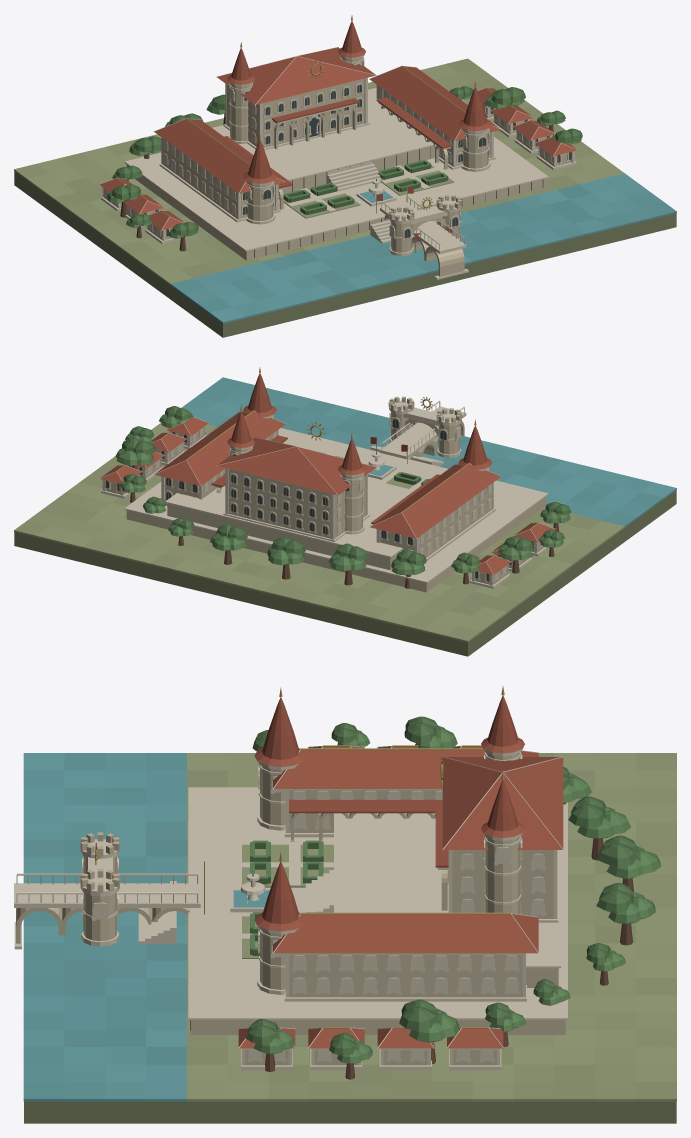
File: river.glb
3 views of the same model, one above another, from view 1: azimuth 30°, elevation 25°; view 2: azimuth 150°, elevation 25°; view 3: azimuth 270°, elevation 25° (orthographic). The views are drawn at different scales.
Parts seen in each view (by area): view 1: site, terraces, royal-hall, landscape, royal-hall-roof, east-wing-roof, west-wing-roof, entry, west-wing, formal-court, landscape-roof, east-wing (+1 smaller); view 2: site, terraces, landscape, royal-hall, royal-hall-roof, west-wing-roof, east-wing-roof, entry, west-wing, landscape-roof, east-wing, formal-court (+1 smaller); view 3: site, terraces, landscape, east-wing, royal-hall-roof, east-wing-roof, west-wing-roof, entry, royal-hall, formal-court, west-wing, landscape-roof (+1 smaller).
Part boxes in pixels (x1,y1,x2,y2): site: [14, 58, 676, 337]; terraces: [124, 87, 548, 260]; royal-hall: [223, 54, 369, 150]; landscape: [101, 86, 582, 251]; royal-hall-roof: [216, 15, 376, 122]; east-wing-roof: [369, 65, 501, 148]; west-wing-roof: [153, 118, 293, 193]; entry: [380, 195, 468, 279]; west-wing: [159, 137, 285, 224]; formal-court: [278, 160, 454, 218]; landscape-roof: [99, 87, 578, 230]; east-wing: [376, 85, 495, 171]; site: [14, 377, 676, 656]; terraces: [124, 428, 548, 592]; landscape: [101, 406, 571, 588]; royal-hall: [223, 444, 369, 541]; royal-hall-roof: [216, 405, 376, 495]; west-wing-roof: [369, 419, 501, 538]; east-wing-roof: [154, 367, 287, 486]; entry: [380, 400, 466, 459]; west-wing: [376, 466, 495, 560]; landscape-roof: [99, 417, 556, 575]; east-wing: [161, 414, 285, 505]; formal-court: [309, 449, 429, 491]; site: [23, 753, 676, 1123]; terraces: [138, 787, 567, 1034]; landscape: [241, 716, 661, 1079]; east-wing: [256, 924, 526, 1001]; royal-hall-roof: [435, 686, 563, 867]; east-wing-roof: [254, 852, 538, 953]; west-wing-roof: [254, 687, 538, 813]; entry: [14, 839, 200, 949]; royal-hall: [437, 747, 558, 922]; formal-court: [230, 840, 333, 958]; west-wing: [256, 759, 442, 841]; landscape-roof: [238, 745, 503, 1048].
Size of the model in its own units: 59.01 by 17.74 by 47.76.
